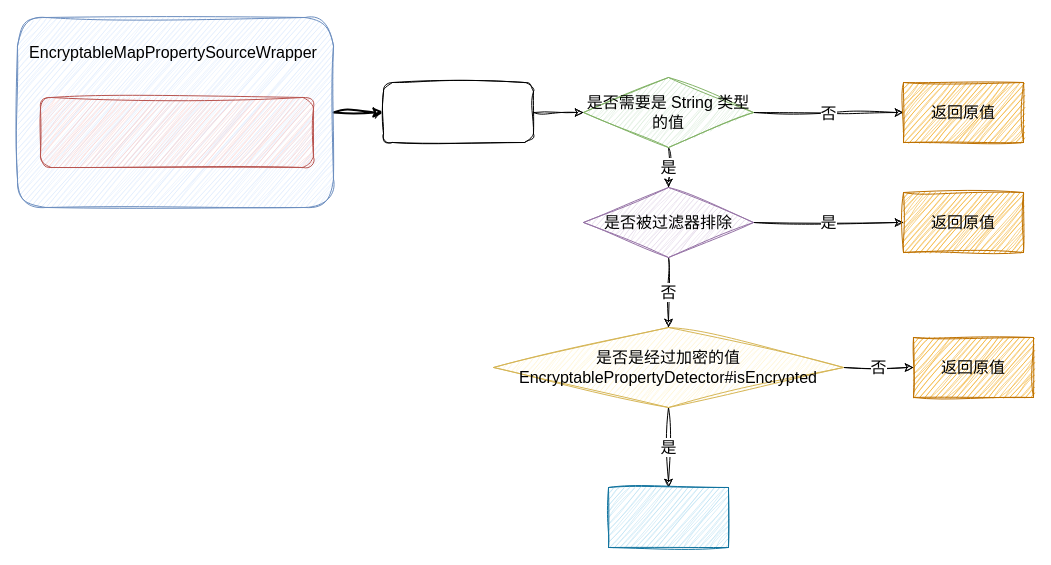
This 1051x565 diagram has some shape labels left out. Here are the shapes that lost their labels. From the top down, the box of each, then its label:
(40, 96, 314, 168): MapPropertySource
(382, 82, 534, 142): getProperty
(608, 486, 728, 548): 返回解密后的值
